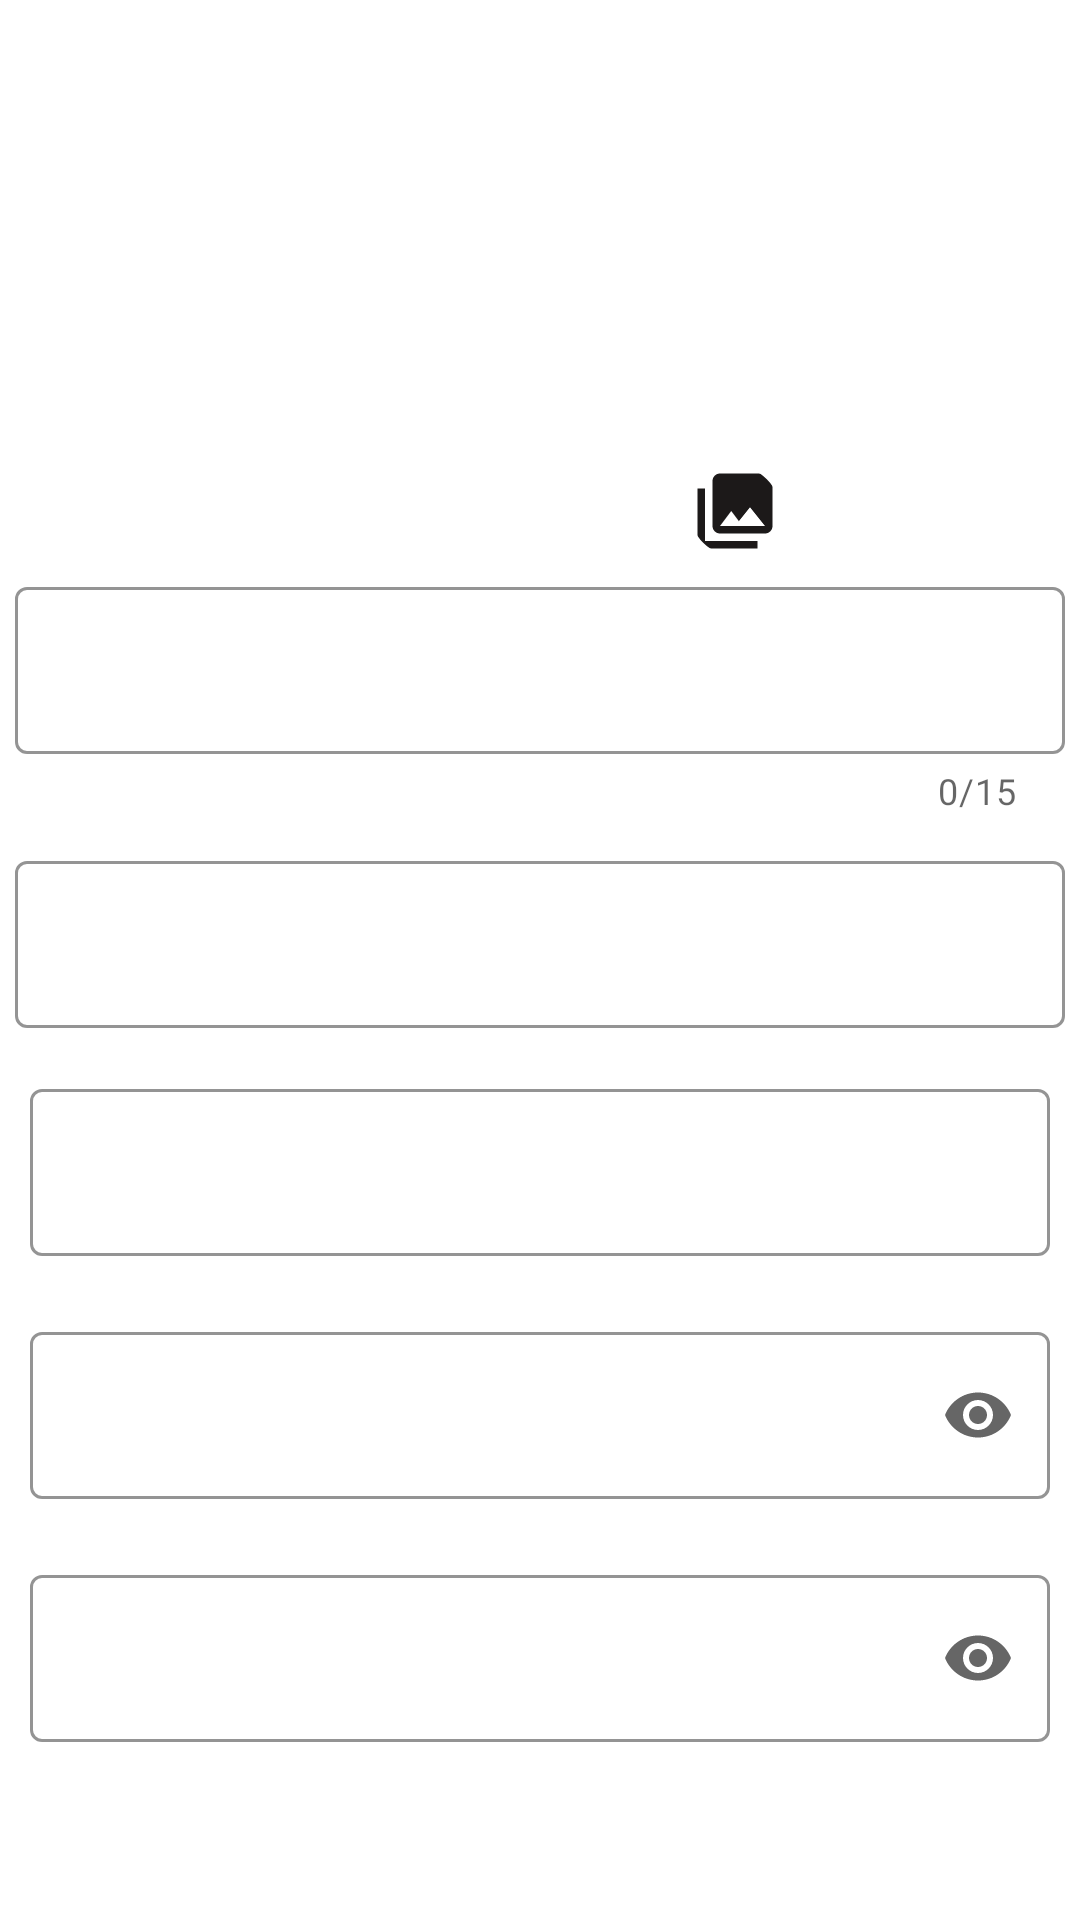

Point at icon controls on the screen. Image size 1080 × 1920, points as (x=x, y=y).
collections: (x=735, y=511)
